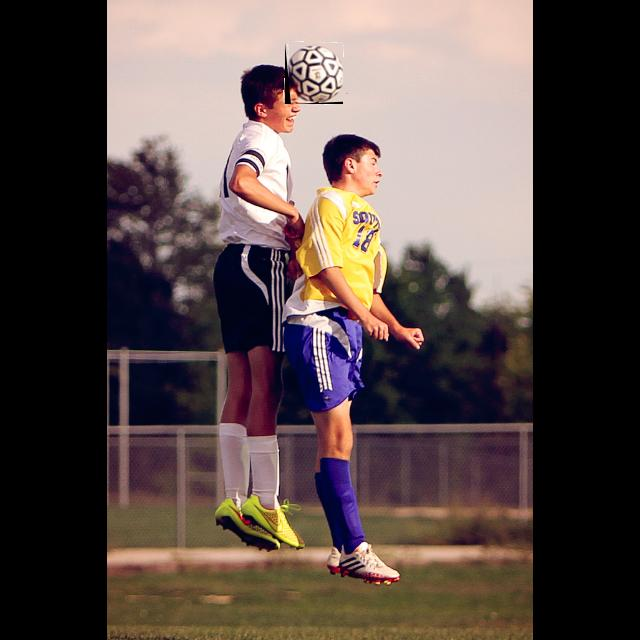Football: (285, 42, 343, 104)
